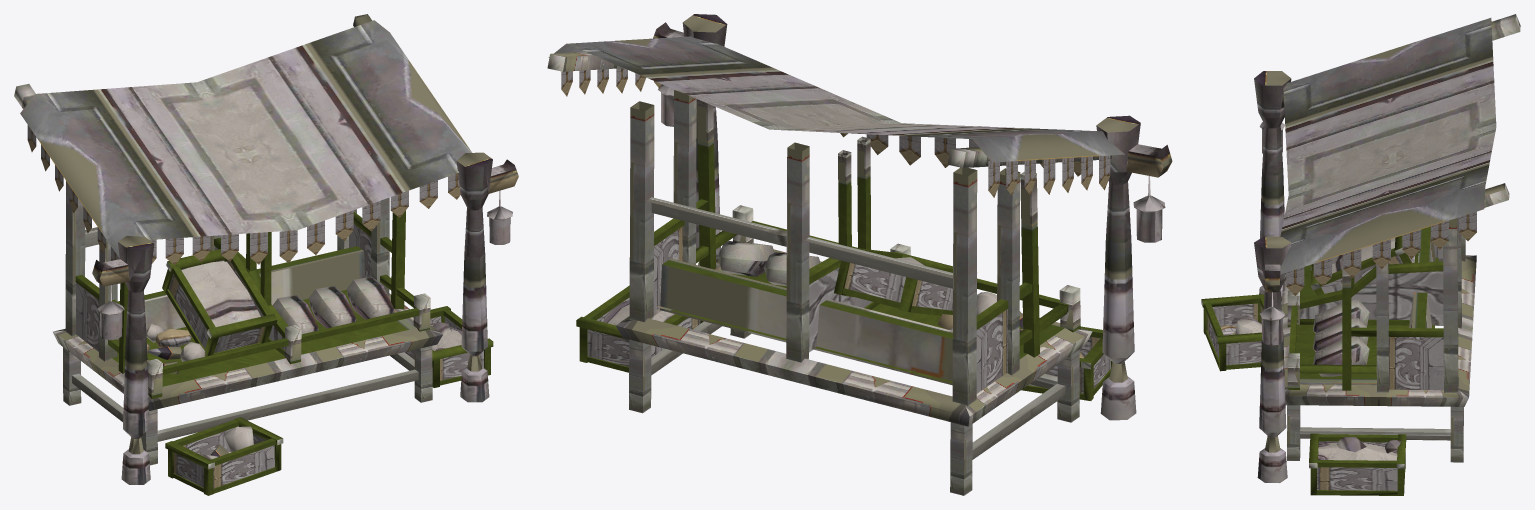
The model's file is City_bujian_04.fbx.
3 renders of one model, left to right at view 1: azimuth 30°, elevation 25°; view 2: azimuth 150°, elevation 25°; view 3: azimuth 270°, elevation 25°, orthographic. The views are drawn at different scales.
Visible parts, largest first — view 1: City_1_2017_3_7_2:City_1_2017_3_7_2:polySurface3710; view 2: City_1_2017_3_7_2:City_1_2017_3_7_2:polySurface3710; view 3: City_1_2017_3_7_2:City_1_2017_3_7_2:polySurface3710.
Boxes of the visible parts, <box> form: City_1_2017_3_7_2:City_1_2017_3_7_2:polySurface3710: <box>14,14,518,495</box>; City_1_2017_3_7_2:City_1_2017_3_7_2:polySurface3710: <box>547,14,1172,495</box>; City_1_2017_3_7_2:City_1_2017_3_7_2:polySurface3710: <box>1201,14,1520,495</box>.
Size of the model in its own units: 7 by 4.87 by 4.65.
